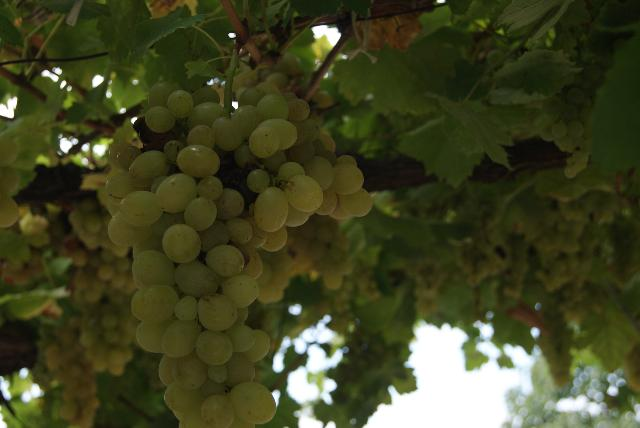grapes: (105, 82, 371, 428)
